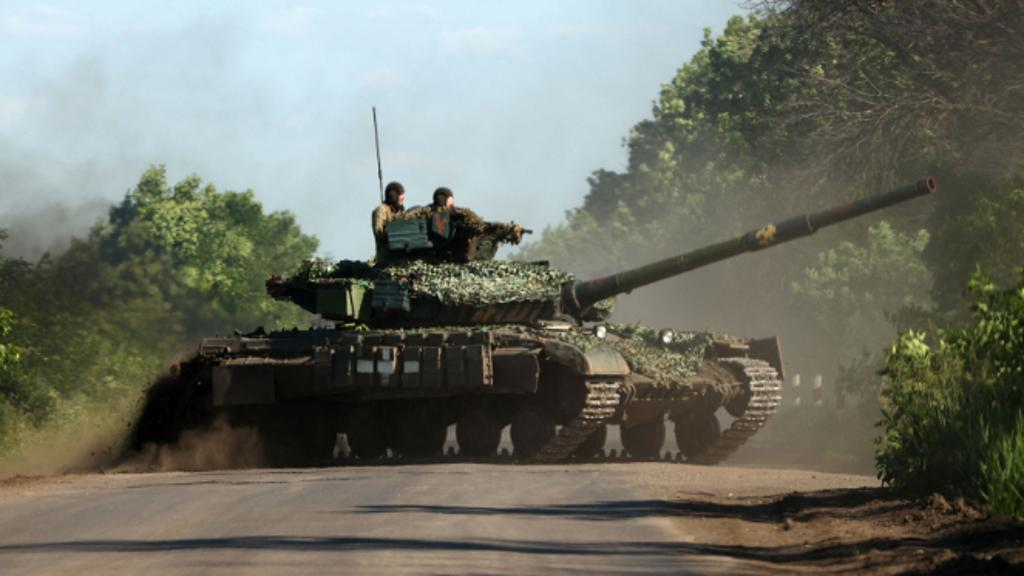TANK: (174, 170, 936, 469)
